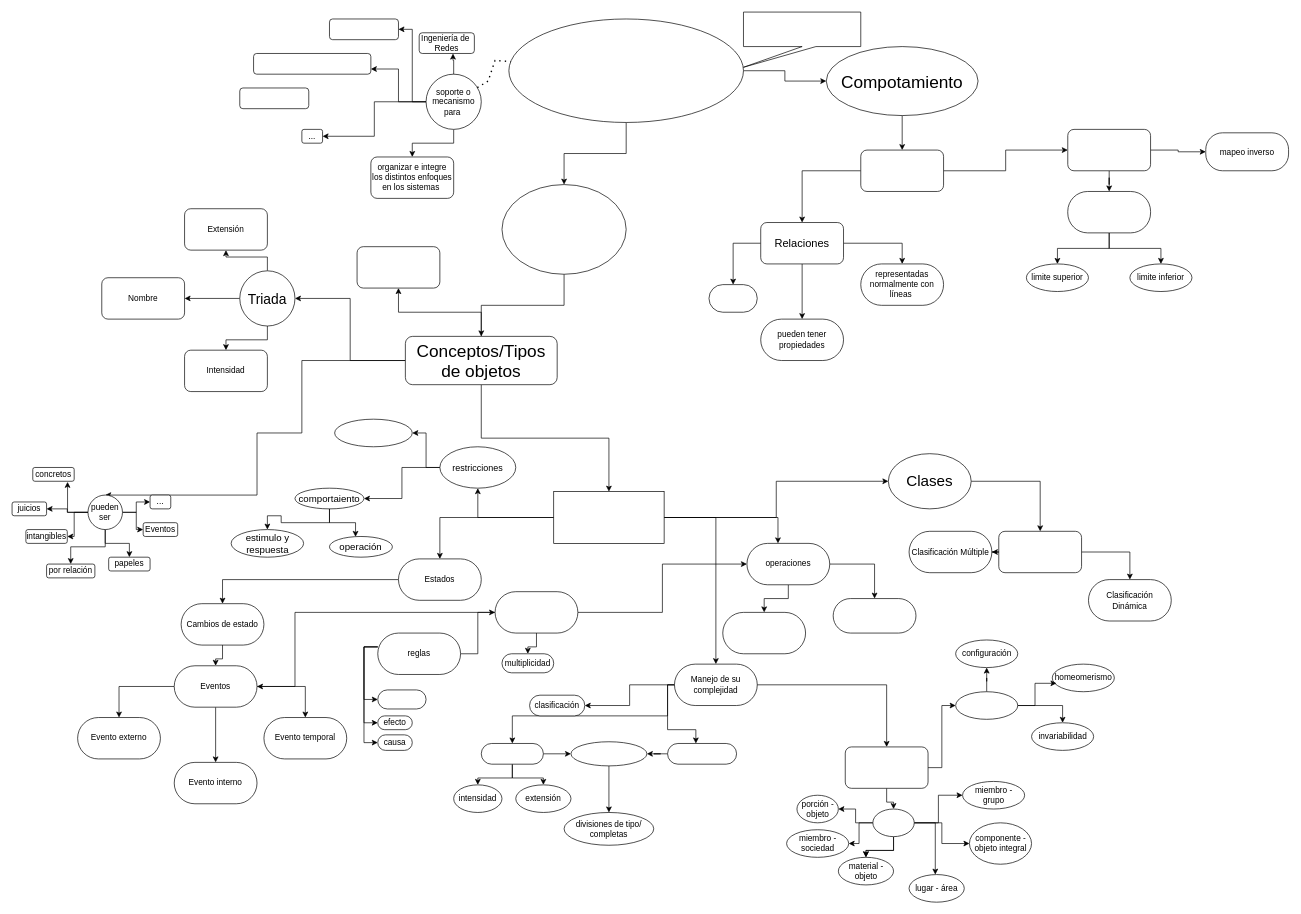
Some shapes in this 1301 by 914 pixel diagram are drawn without their labels. Here are the shapes that lost their labels. From the top down, the box of each, then its label:
(329, 18, 398, 40): Ingeniería de Software
(743, 11, 861, 67): modela la forma en que las personas procesan y comprende la realidad
(253, 53, 371, 74): Ingeniería de Organización y métodos
(508, 18, 743, 122): Orientación a Objetos
(239, 87, 309, 109): Ingeniería de Productos
(860, 149, 944, 191): Asociasiones
(1067, 129, 1151, 171): Mapeos
(501, 184, 626, 274): Estructura ( v isión estática de la disposición de objetos en el espacio)
(1067, 191, 1151, 233): restricciones de cardinalidad
(356, 246, 440, 288): Dominio/Marco de Referencia
(708, 284, 757, 312): n-adas
(334, 418, 412, 447): cardianlidad
(553, 491, 664, 543): Objetos (Cualquier cosa a la que se aplica un concepto)
(998, 531, 1082, 573): membresía
(494, 591, 578, 633): Elemento activador
(832, 598, 916, 633): codiciones de control
(722, 612, 806, 654): Metodos
(377, 689, 426, 709): composición
(955, 691, 1018, 719): propiedades básicas
(481, 743, 543, 764): generalización
(570, 741, 647, 766): supertipo/subtipo
(667, 743, 737, 764): especialización
(845, 746, 928, 788): Composicion
(872, 808, 914, 837): tipos
